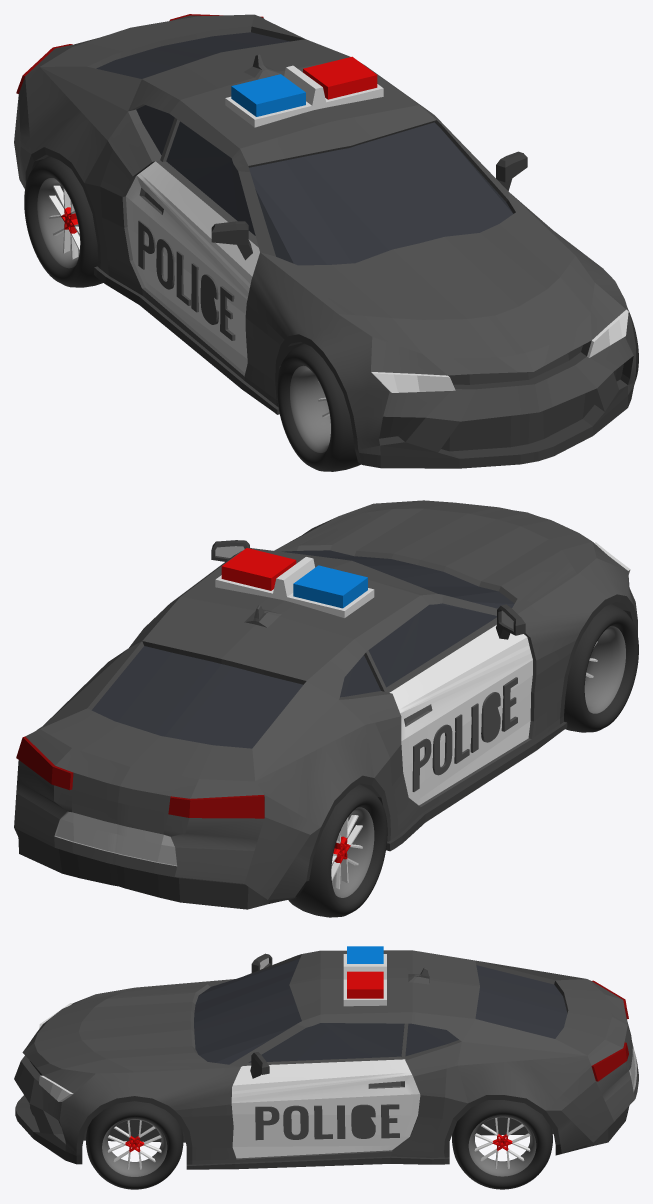
Rendered from Standard Police Car.fbx.
3 views of the same model, one above another, from view 1: azimuth 30°, elevation 25°; view 2: azimuth 150°, elevation 25°; view 3: azimuth 270°, elevation 25° (orthographic). The views are drawn at different scales.
Parts seen in each view (by area): view 1: polySurface59, polySurface43, polySurface65, Tier (×2), Police_Lights, pPipe4 (×2), Left_Side_Police_Text, polySurface41, pCube871, Left_Side_Mirror, Right_Side_Mirror; view 2: polySurface59, polySurface43, polySurface65, Tier (×2), Police_Lights, pPipe4 (×2), Left_Side_Police_Text, polySurface45, polySurface49, pCube871, Left_Side_Mirror, Right_Side_Mirror; view 3: polySurface59, polySurface43, Tier (×2), polySurface65, Right_Side_Police_Text, pPipe4 (×2), Police_Lights, pCube871 (×2), polySurface49, polySurface41, Right_Side_Mirror.
Boxes of the visible parts, left/top/right/bottom form: polySurface59: left=14, top=14, right=635, bottom=458; polySurface43: left=96, top=32, right=513, bottom=265; polySurface65: left=25, top=147, right=633, bottom=468; Tier (×2): left=24, top=156, right=360, bottom=471; Police_Lights: left=225, top=56, right=383, bottom=127; pPipe4 (×2): left=37, top=178, right=330, bottom=452; Left_Side_Police_Text: left=138, top=220, right=235, bottom=340; polySurface41: left=371, top=309, right=628, bottom=392; pCube871: left=48, top=185, right=80, bottom=259; Left_Side_Mirror: left=211, top=221, right=252, bottom=260; Right_Side_Mirror: left=496, top=151, right=527, bottom=190; polySurface59: left=14, top=500, right=637, bottom=899; polySurface43: left=91, top=550, right=514, bottom=748; polySurface65: left=14, top=594, right=637, bottom=909; Tier (×2): left=288, top=604, right=638, bottom=917; Police_Lights: left=215, top=548, right=374, bottom=618; pPipe4 (×2): left=331, top=626, right=625, bottom=897; Left_Side_Police_Text: left=412, top=677, right=517, bottom=791; polySurface45: left=54, top=811, right=176, bottom=866; polySurface49: left=16, top=736, right=264, bottom=818; pCube871: left=331, top=815, right=362, bottom=889; Left_Side_Mirror: left=496, top=604, right=525, bottom=639; Right_Side_Mirror: left=211, top=540, right=249, bottom=561; polySurface59: left=14, top=950, right=638, bottom=1164; polySurface43: left=194, top=958, right=567, bottom=1064; Tier (×2): left=86, top=1100, right=552, bottom=1189; polySurface65: left=15, top=1055, right=629, bottom=1169; Right_Side_Police_Text: left=255, top=1104, right=399, bottom=1140; pPipe4 (×2): left=102, top=1115, right=536, bottom=1176; Police_Lights: left=343, top=946, right=386, bottom=1006; pCube871 (×2): left=108, top=1118, right=530, bottom=1169; polySurface49: left=591, top=980, right=628, bottom=1081; polySurface41: left=39, top=1003, right=73, bottom=1101; Right_Side_Mirror: left=250, top=1052, right=269, bottom=1078.
Size of what is drawn, in the model's own units: 31.29 by 22.91 by 73.83.
